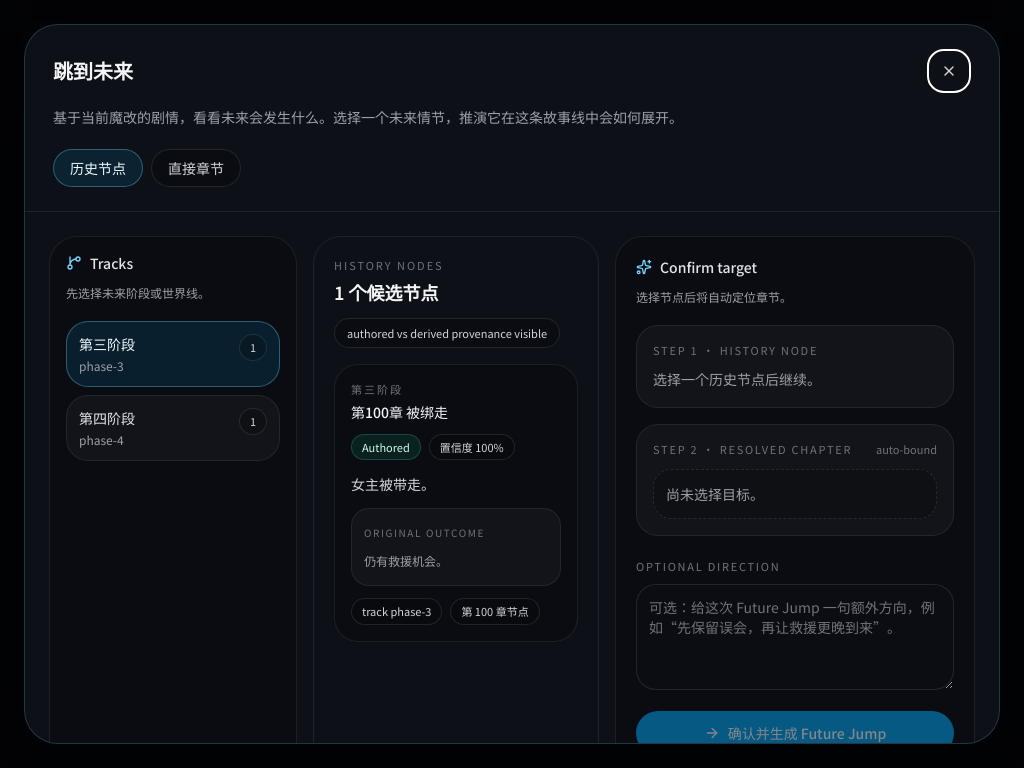
it: FutureMapOverlay › shows an explicit create error when future jump generation fails
Expected: the button with test id "future-map-track-phase-3" is shown, [66,321,280,387]
Click the button with test id "future-map-event-outline_event_100" at (456, 503), box [334,364,578,642]
(page scrolled)
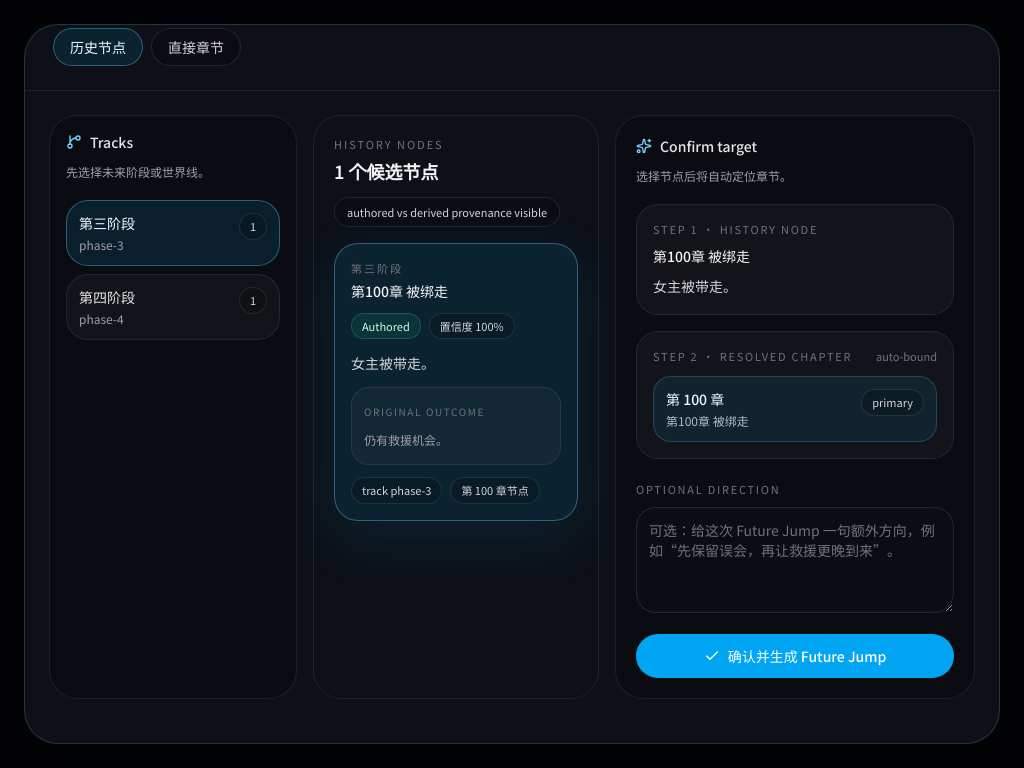
Click the button with test id "future-map-confirm" at (795, 656), box [636,634,954,678]
(page scrolled)
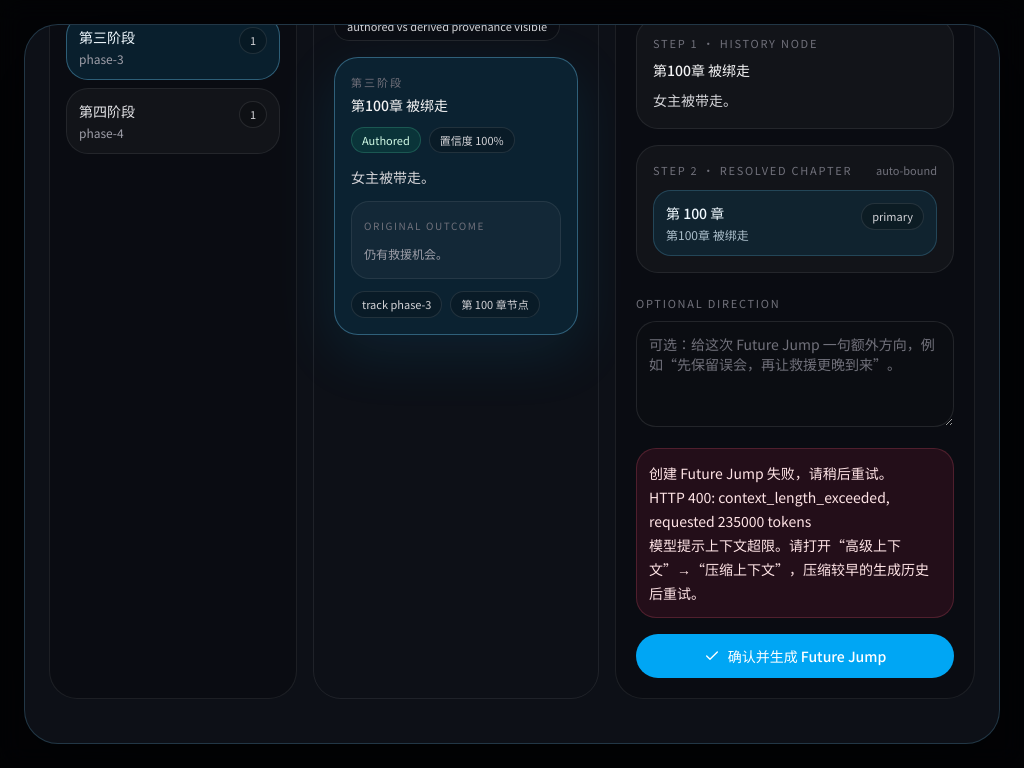
Expected: the message with test id "future-map-create-error" shows "创建 Future Jump 失败，请稍后重试。", [649,463,929,603]
Expected: the message with test id "future-map-create-error" shows "HTTP 400: context_length_exceeded, requested 235000 tokens", [649,463,929,603]
Expected: the message with test id "future-map-create-error" shows "高级上下文", [649,463,929,603]
